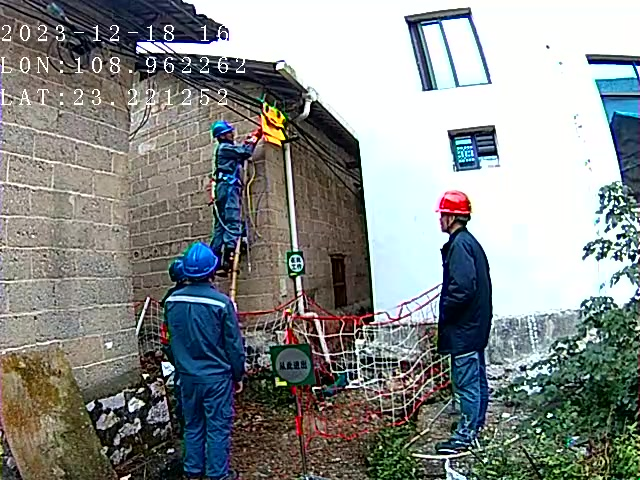badge: (160, 325, 171, 343)
downsuit: (178, 385, 239, 477), (446, 360, 492, 432), (212, 186, 248, 248)
glove: (247, 130, 266, 145)
halt: (176, 242, 220, 281), (436, 189, 475, 232), (212, 120, 237, 143)
inear: (446, 214, 461, 230)
intosign: (268, 346, 315, 386)
person: (159, 241, 250, 480), (432, 187, 497, 452), (207, 118, 258, 248)
upcloth: (439, 235, 495, 355)
upsuit: (165, 286, 243, 382), (213, 147, 254, 180)
worksign: (286, 251, 305, 276)
